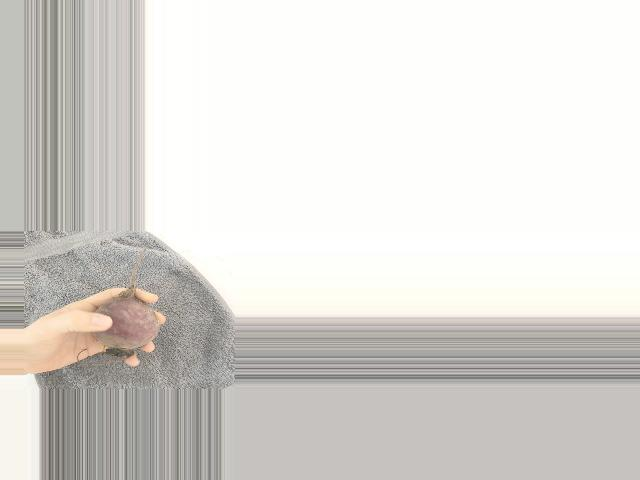beet: (91, 246, 160, 356)
